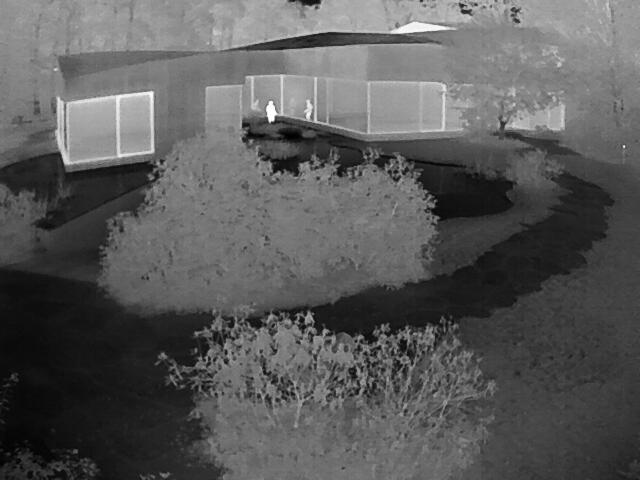person: (264, 99, 277, 124), (301, 98, 312, 117)
